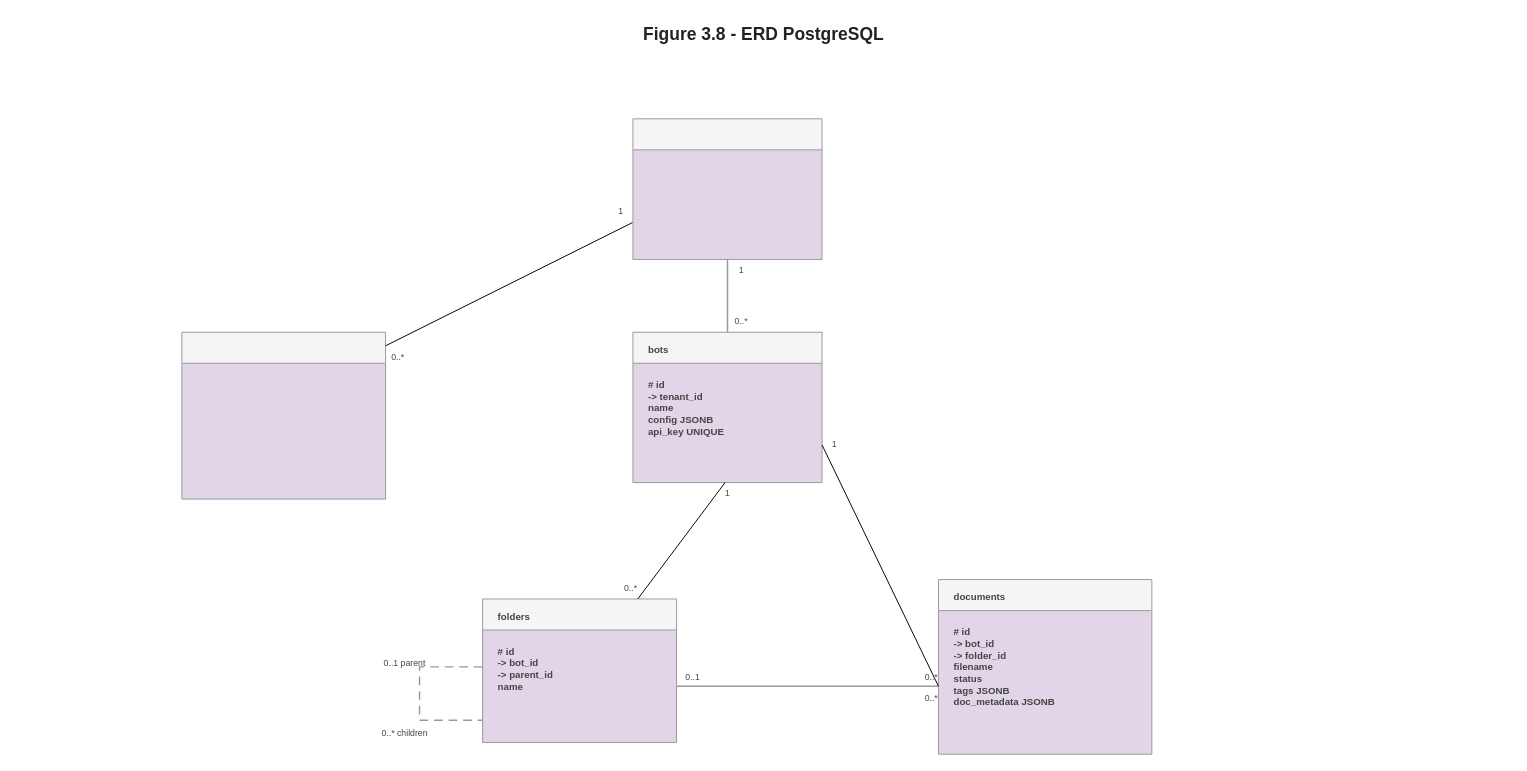
Image size: 1527x771. Some labels were removed from this diagram. Each missing label, with the centre of its shape:
tenants # id name email UNIQUE plan settings JSONB: the point at 727,188
users # id -> tenant_id email UNIQUE role is_active: the point at 283,415
